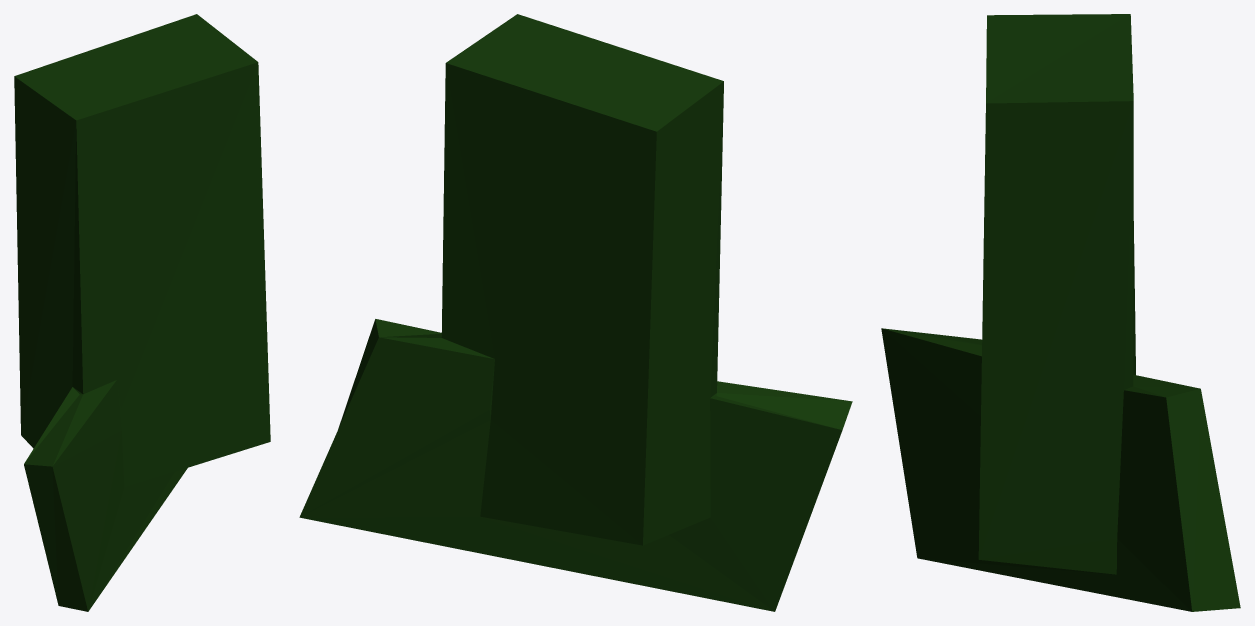
3 renders of one model, left to right at view 1: azimuth 30°, elevation 25°; view 2: azimuth 150°, elevation 25°; view 3: azimuth 270°, elevation 25°, orthographic. The views are drawn at different scales.
Visible parts, largest first — view 1: 856_Cube.3460; view 2: 856_Cube.3460; view 3: 856_Cube.3460.
Boxes of the visible parts, left/top/right/bottom form: 856_Cube.3460: left=14, top=14, right=270, bottom=611; 856_Cube.3460: left=299, top=14, right=852, bottom=611; 856_Cube.3460: left=881, top=14, right=1240, bottom=611.
Bounding box in the file's own units: 11.61 × 15.32 × 8.67.
